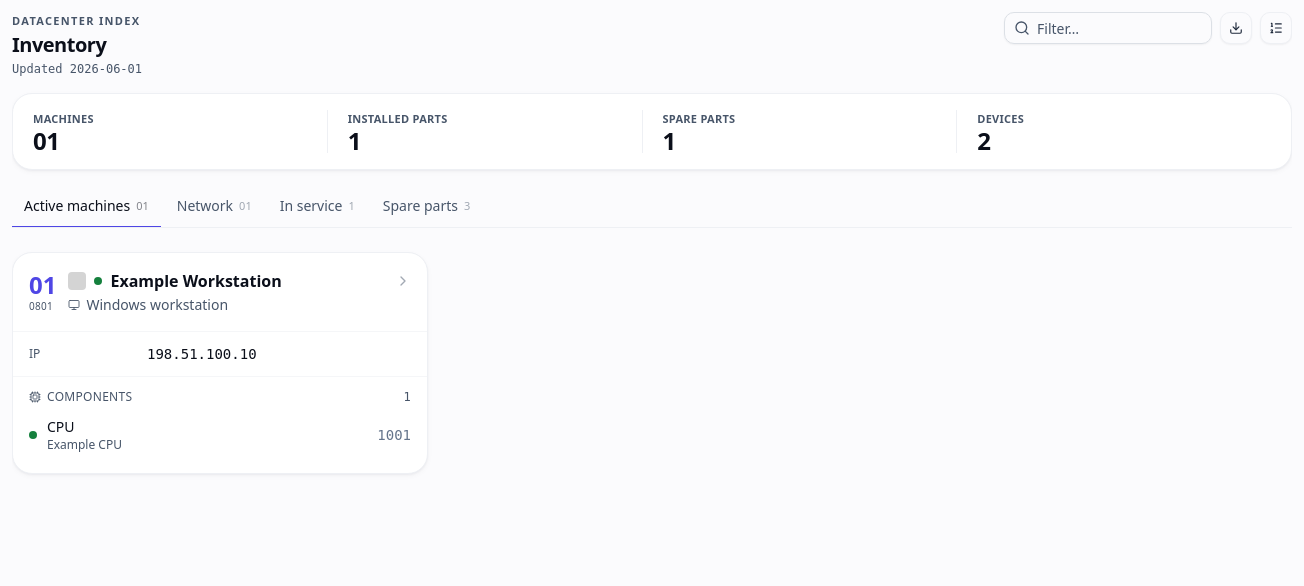
Scenario: InventoryPage › renders persisted inventory and switches major tabs
expect the heading "Inventory" is shown: met, box [12,31,106,58]
expect the text "Example Workstation" is shown: met, box [110,269,282,293]
Click the tab "Network 01". click: (214, 207)
box: [165,186,264,228]
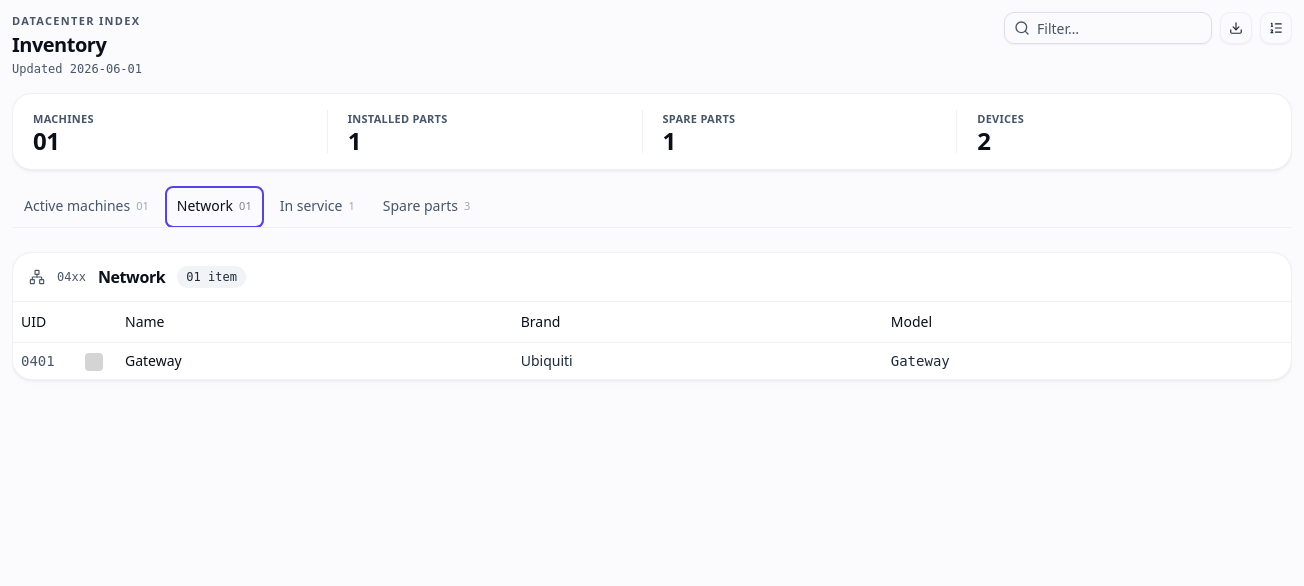
expect the 1st text "Gateway" is shown: met, box [125,351,182,371]
Click the tab "Spare parts 3". click: (427, 207)
box: [371,186,482,228]
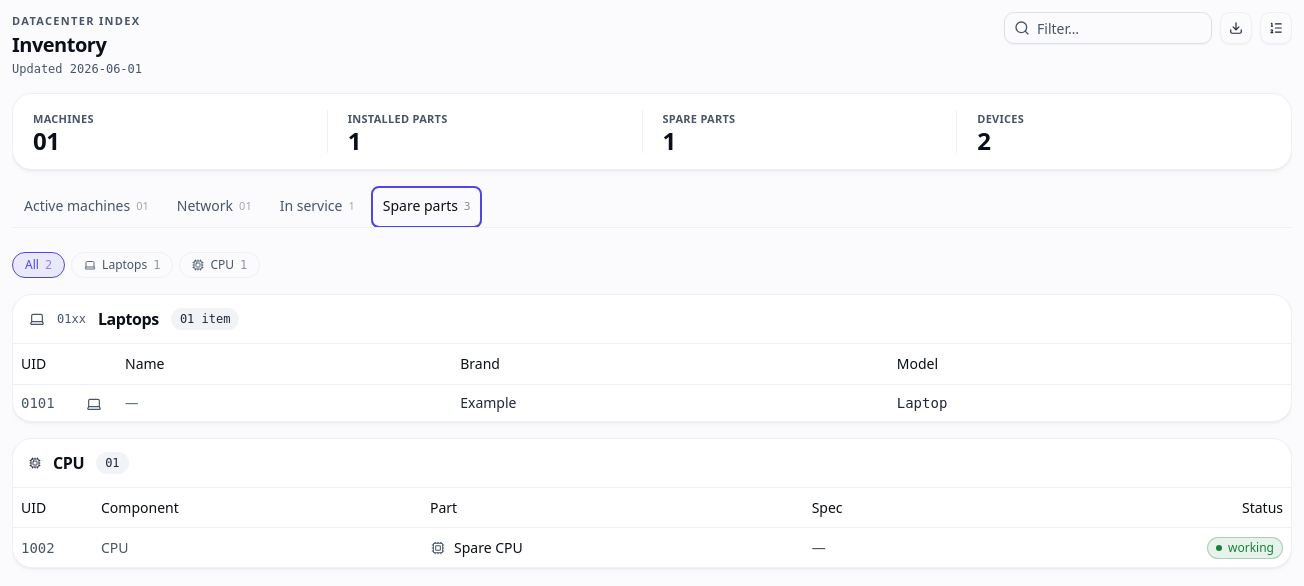
expect the heading "Laptops" is shown: met, box [98,307,159,331]
expect the heading "CPU" is shown: met, box [53,451,84,475]
